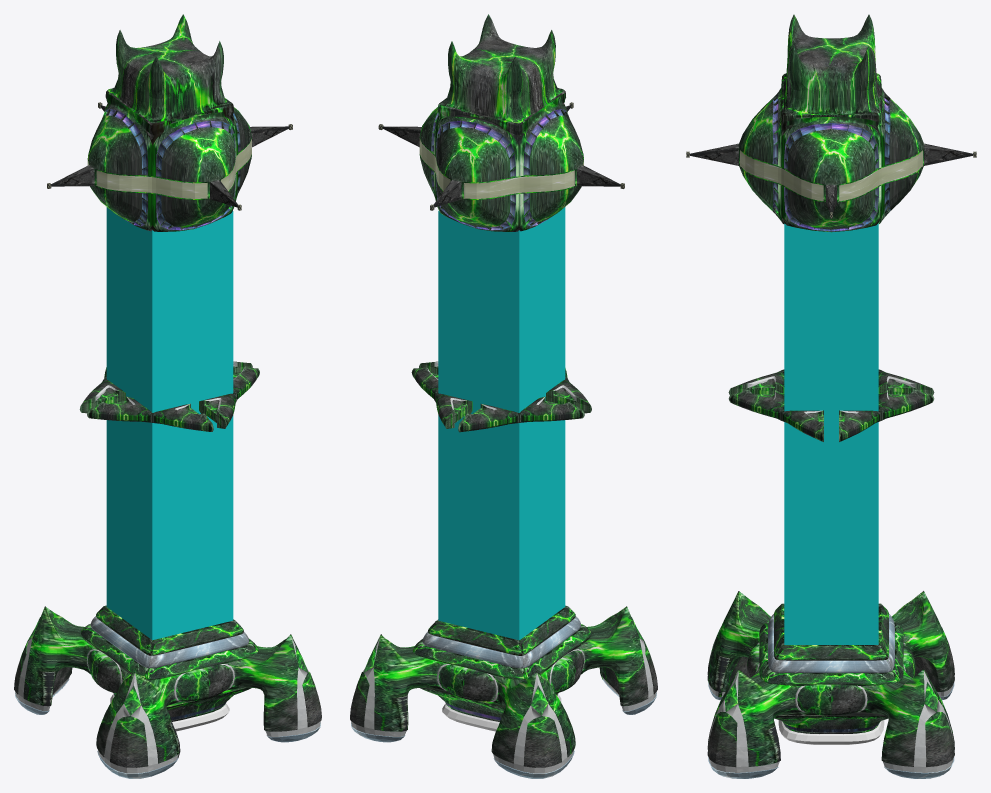
File: wall_capturable 1.fbx
The picture shows the model from 3 angles, left to right: view 1: azimuth 30°, elevation 25°; view 2: azimuth 150°, elevation 25°; view 3: azimuth 270°, elevation 25°; orthographic projection. The views are drawn at different scales.
Parts seen in each view (by area): view 1: beam, uncapped cap, rotator, base, attach, middle5a, middle7, middle7a, middle5, levitator1, middle1; view 2: beam, uncapped cap, rotator, base, attach, middle5, middle3a, middle3, middle5a, levitator1, middle1a; view 3: beam, uncapped cap, rotator, base, attach, levitator1, middle3, middle7a, middle1, middle1a, middle3a, middle7.
Part boxes in pixels (x1,y1,x2,y2): beam: [106, 207, 233, 640]; uncapped cap: [87, 14, 251, 231]; rotator: [14, 606, 321, 778]; base: [81, 605, 258, 721]; attach: [47, 102, 292, 210]; middle5a: [87, 396, 152, 422]; middle7: [152, 403, 213, 431]; middle7a: [199, 393, 235, 428]; middle5: [79, 379, 125, 413]; levitator1: [110, 694, 229, 731]; middle1: [233, 367, 259, 401]; beam: [438, 207, 565, 640]; uncapped cap: [419, 14, 583, 231]; rotator: [350, 606, 657, 778]; base: [413, 605, 590, 721]; attach: [378, 102, 624, 210]; middle5: [519, 396, 584, 422]; middle3a: [458, 404, 519, 432]; middle3: [435, 393, 472, 428]; middle5a: [546, 379, 591, 413]; levitator1: [442, 694, 561, 731]; middle1a: [411, 367, 438, 401]; beam: [784, 223, 878, 644]; uncapped cap: [739, 14, 923, 232]; rotator: [707, 591, 954, 778]; base: [759, 603, 903, 733]; attach: [686, 143, 976, 218]; levitator1: [778, 720, 884, 744]; middle3: [878, 390, 934, 420]; middle7a: [728, 390, 784, 420]; middle1: [781, 410, 823, 441]; middle1a: [839, 410, 881, 441]; middle3a: [878, 370, 934, 394]; middle7: [728, 370, 784, 394].
Size of the model in its own units: 525 by 1405 by 525.
